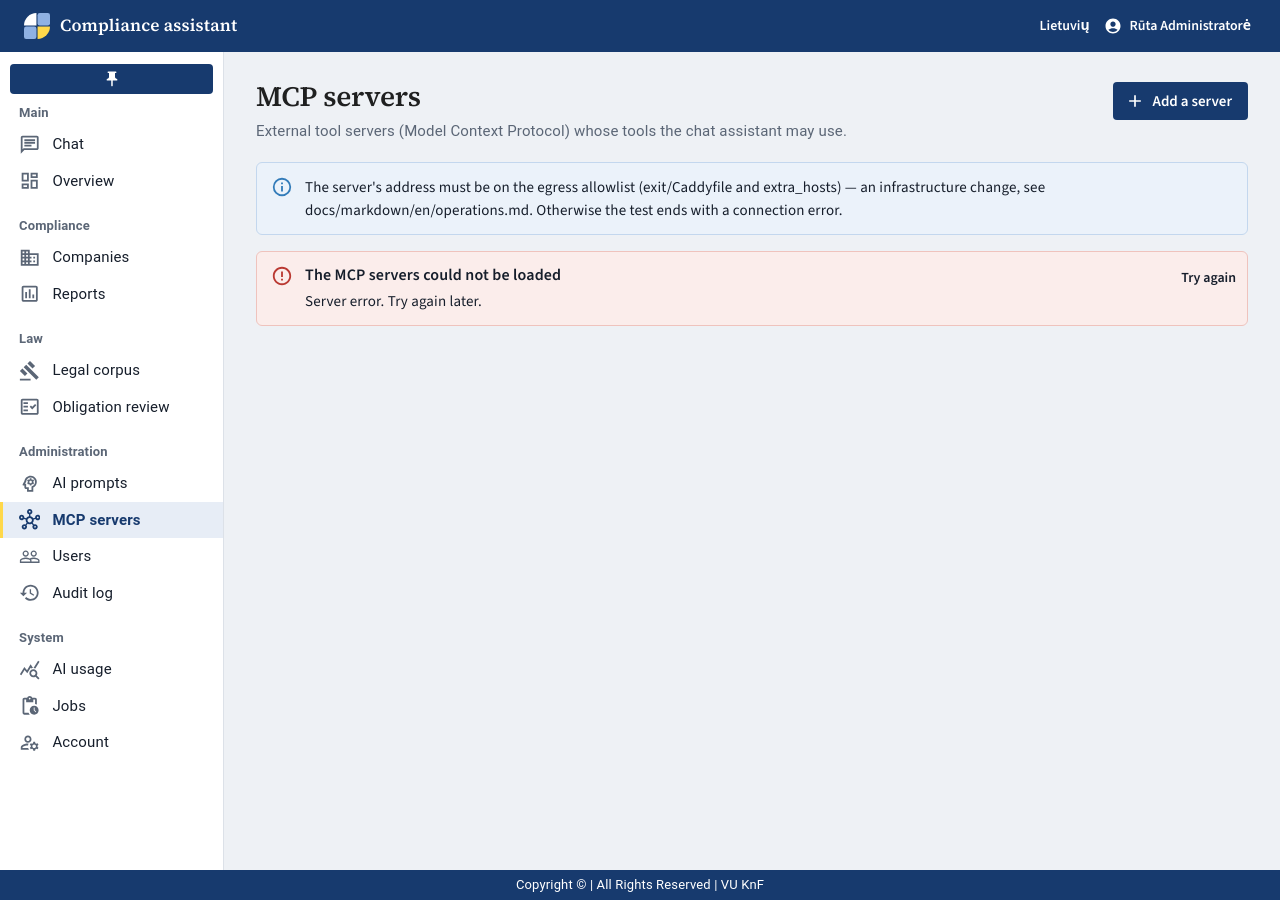
it: MCP servers page — loading, failed, malformed and empty › a failed list shows the page's error with the translated sentence and a retry that brings the cards
expect the message "The MCP servers could not be loaded Server error. Try again later. Try again" is shown: met, box [256,251,1248,326]
Click the button "Try again".
click(1209, 278)  # box [1176,262,1241,294]
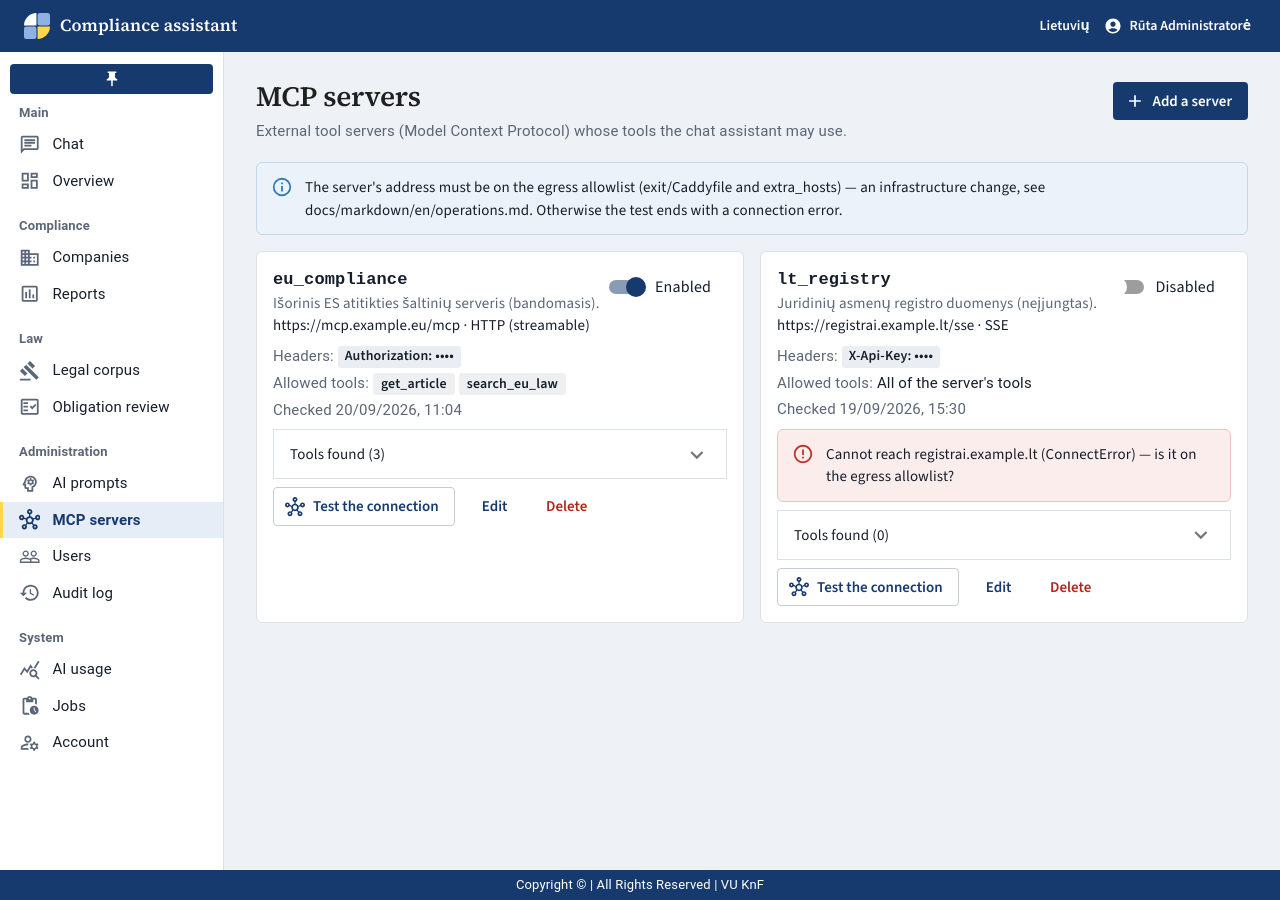
expect the list item "eu_compliance" is shown: met, box [256,251,744,623]
expect the text "The MCP servers could not be loaded" is gone: met
